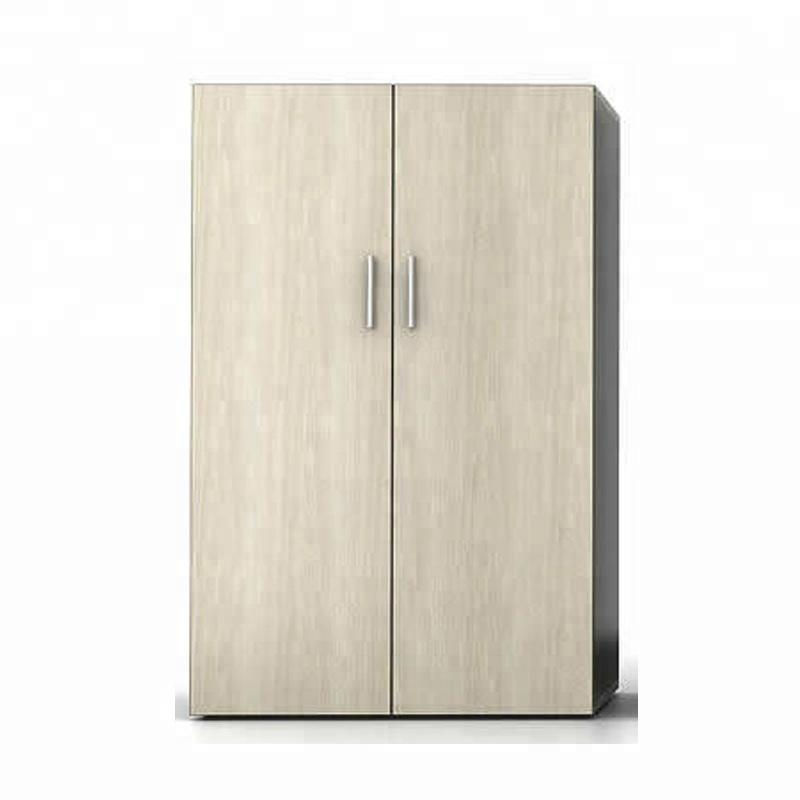cabinet_door: (198, 83, 396, 718), (400, 90, 593, 721)
handle: (400, 248, 421, 337), (360, 248, 380, 335)
